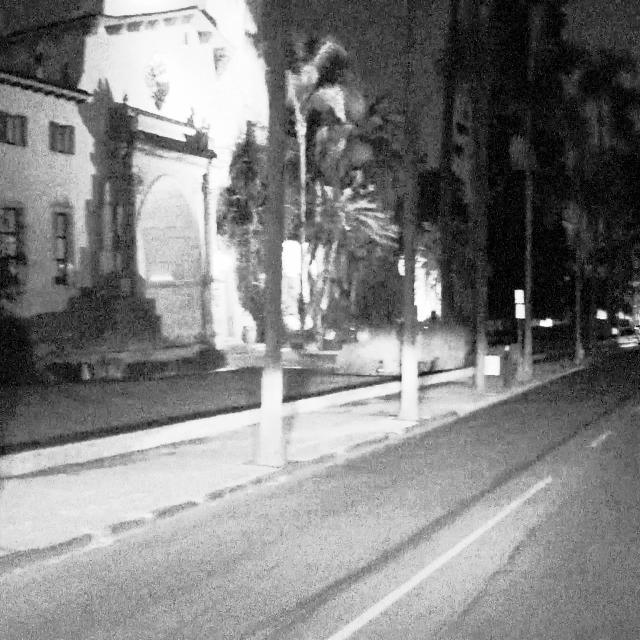Tree: (254, 4, 290, 472), (396, 0, 425, 426)
